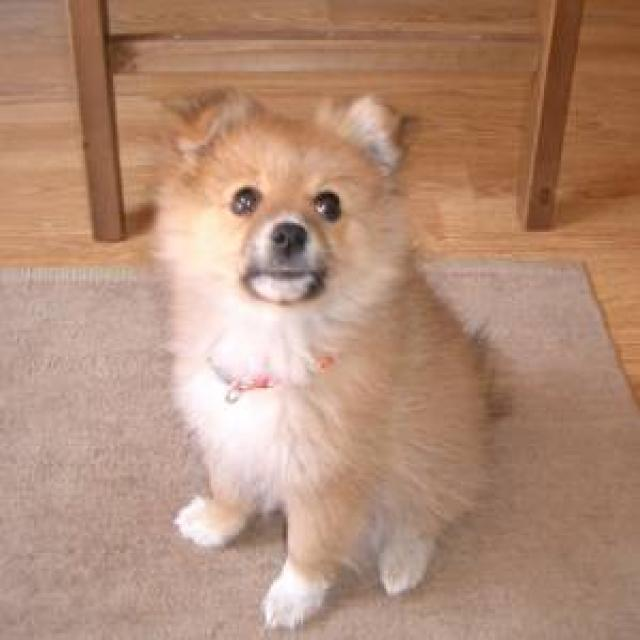dog-pomeranian: (149, 87, 512, 633)
